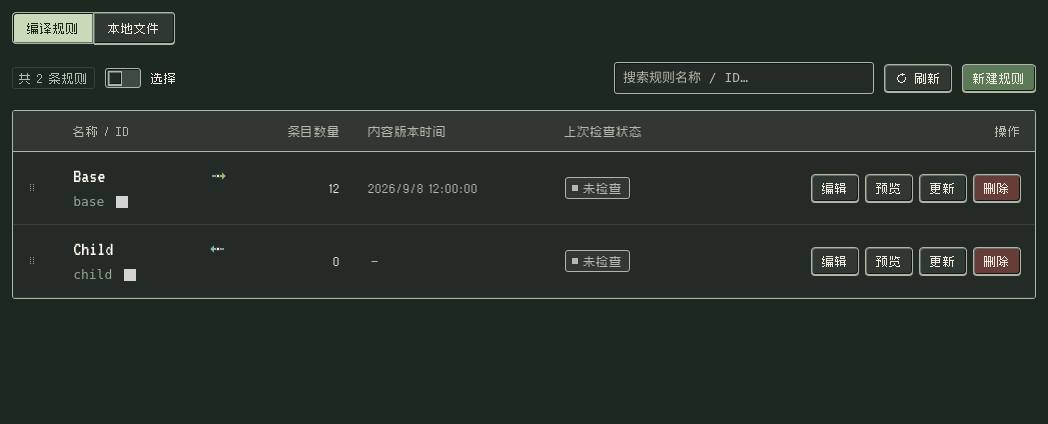
Test: RulesView › batches output clients and blocks deleting a referenced rule
This screenshot has width=1048, height=424.
Check: the text "Child" is shown, box [73,237,113,261]
Click the switch labelled "选择" at (141, 78), box [105,62,177,94]
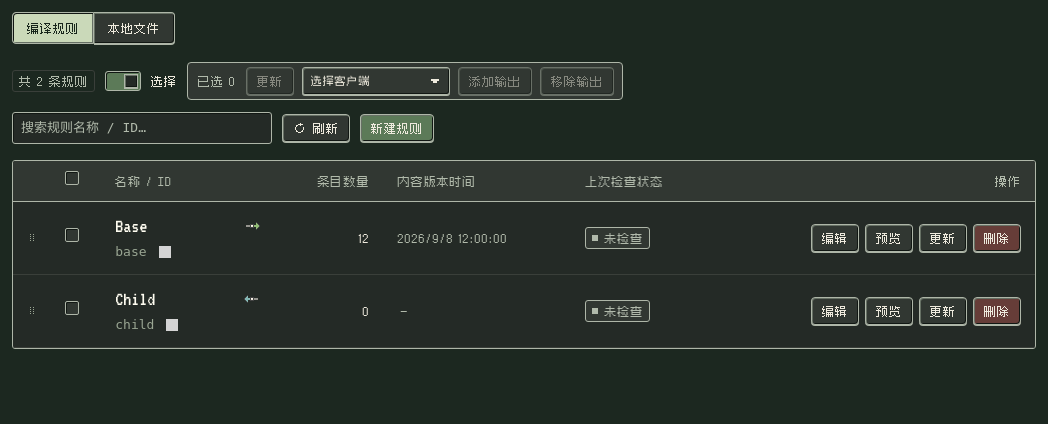
Click the checkbox named "选择 Child" at (72, 308), box [65,301,79,315]
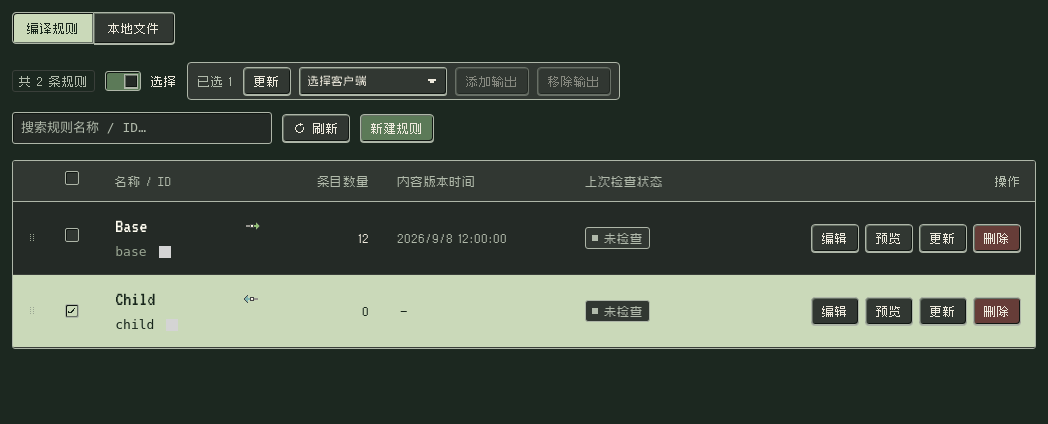
Click the dropdown named "批量输出客户端" at (373, 81), box [299,67,447,95]
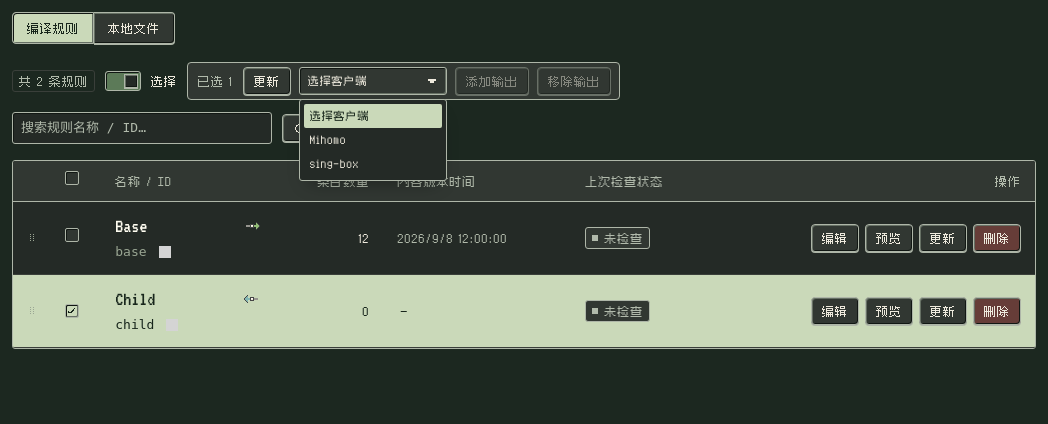
Click the option "sing-box" at (335, 164), box [310,158,360,169]
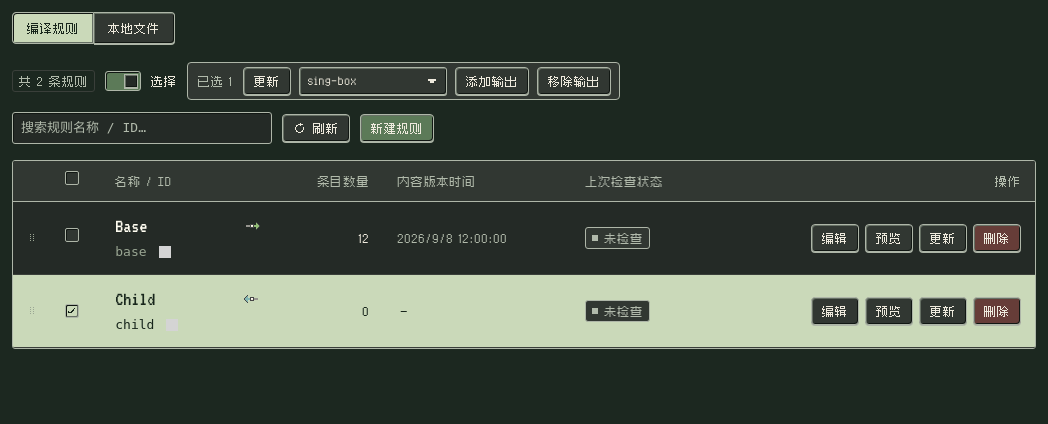
Click the button "添加输出" at (492, 81), box [455,67,529,95]
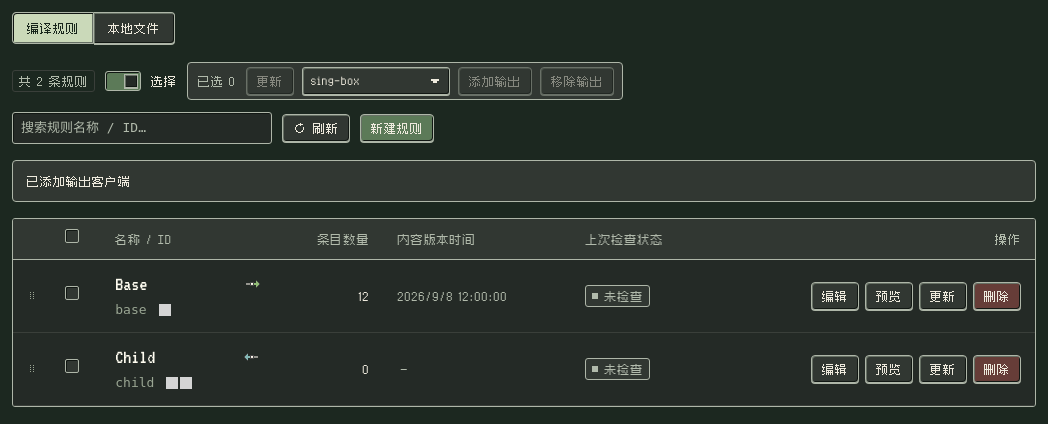
Click the button "删除" in the row of "2026/9/8 12:00:00" at (997, 296), box [973,282,1021,310]
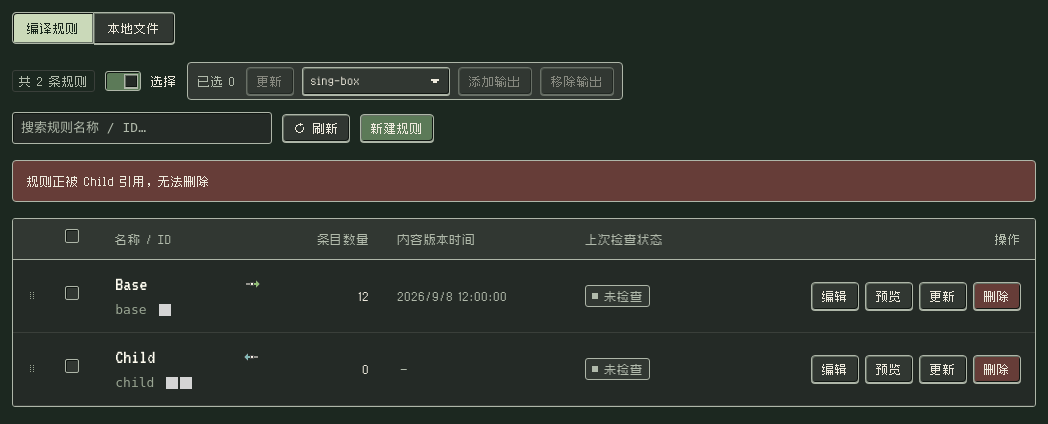
Check: the message shows "Child", box [27,175,210,187]
